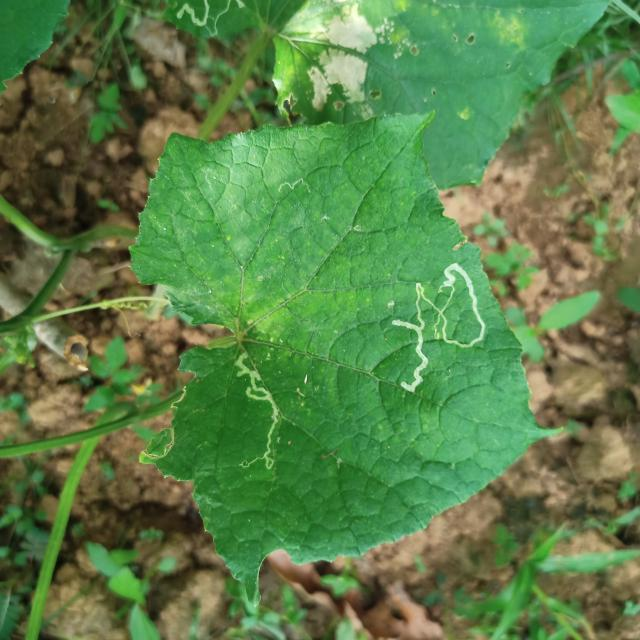disease_cucumber: (306, 5, 378, 111)
